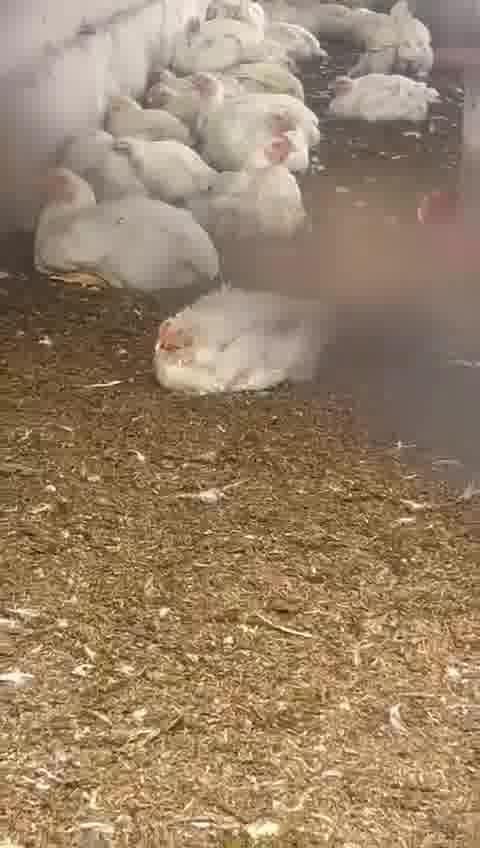AbNormal: (151, 281, 357, 395), (65, 124, 189, 196), (97, 87, 186, 147), (147, 59, 227, 115)
Normal: (34, 165, 227, 298), (190, 70, 328, 132), (216, 139, 311, 229), (313, 64, 445, 128), (215, 107, 321, 171)
